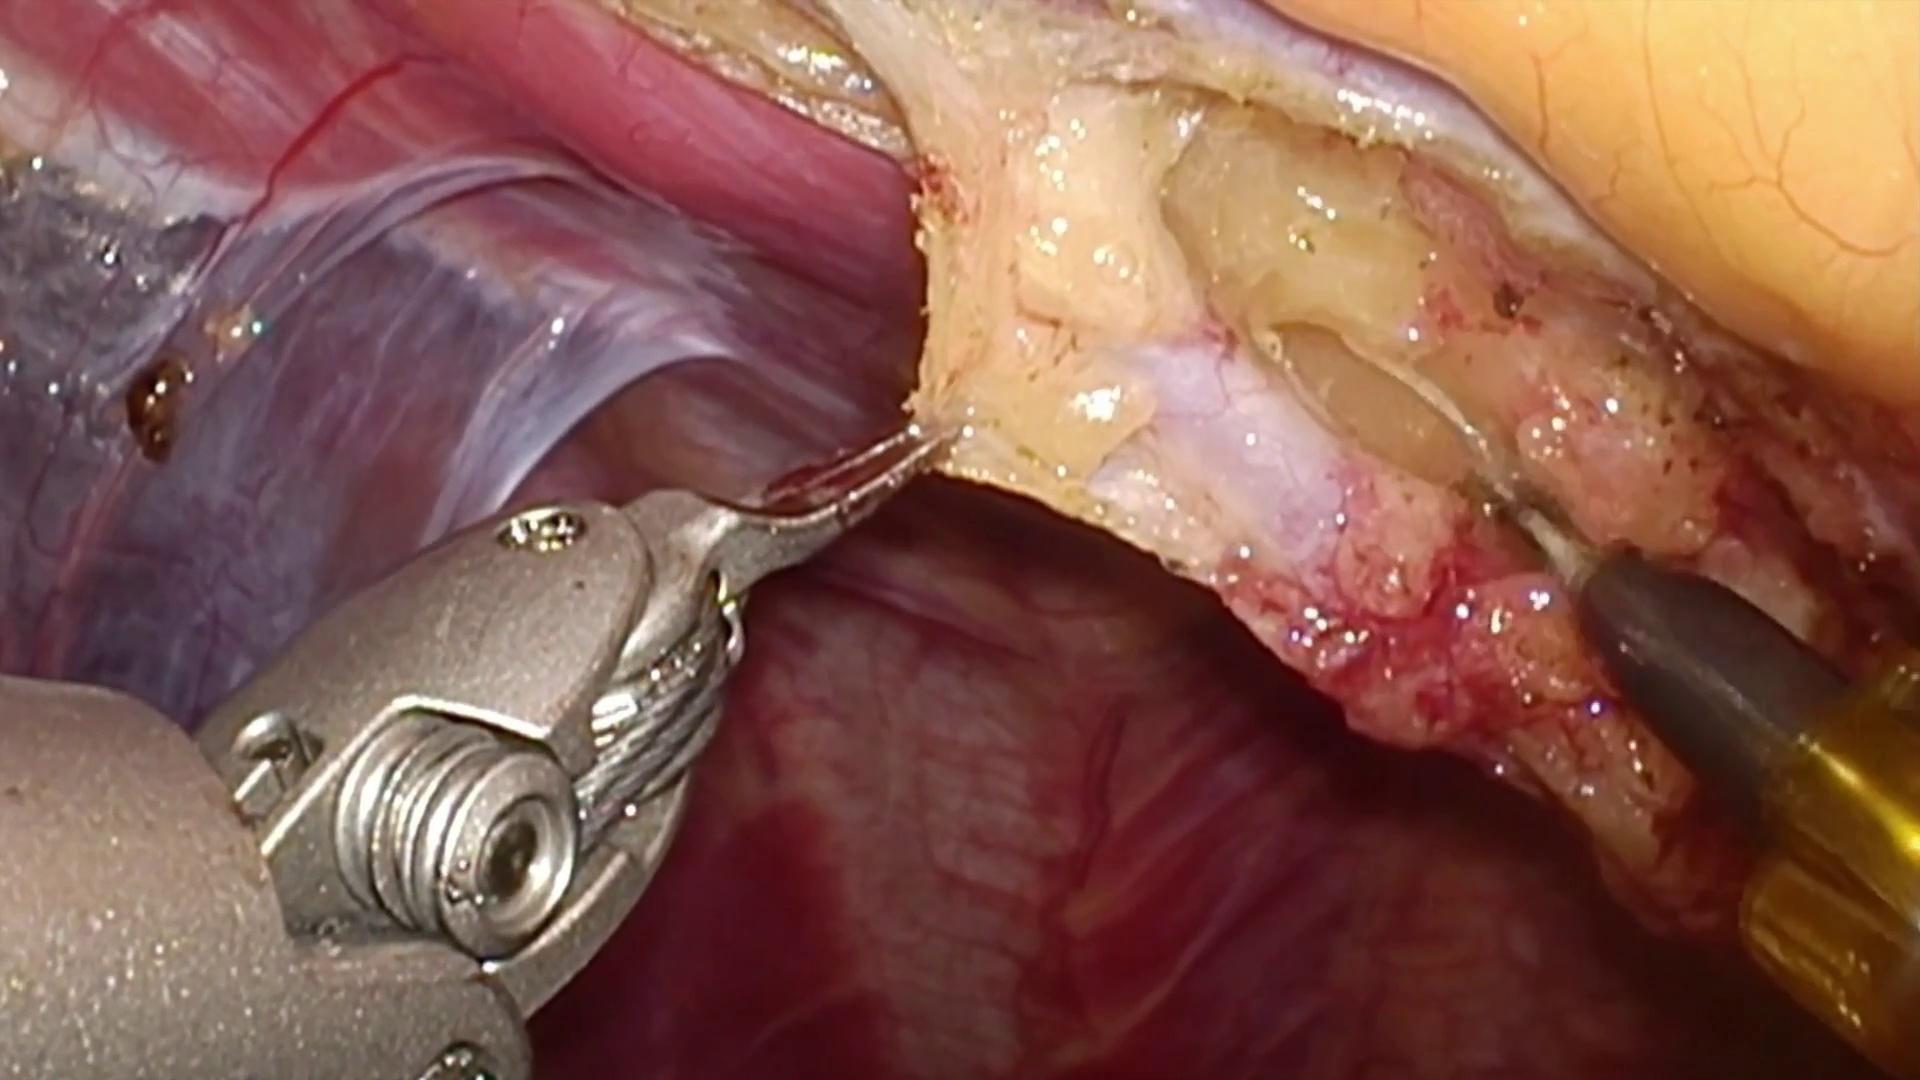Cautery_Spatula: (1505, 488, 1869, 824)
Debakey: (640, 389, 981, 584)
